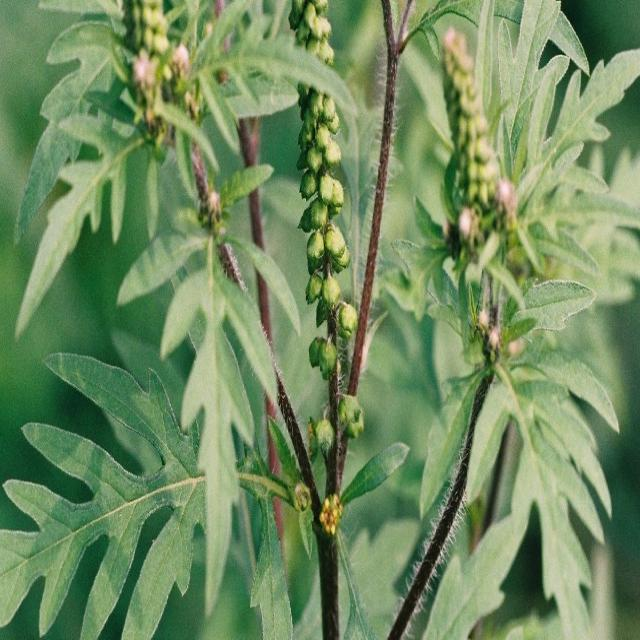ambrosia: (261, 0, 369, 544), (407, 48, 541, 280)
